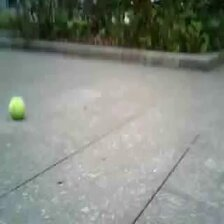tennis: (8, 96, 25, 120)
